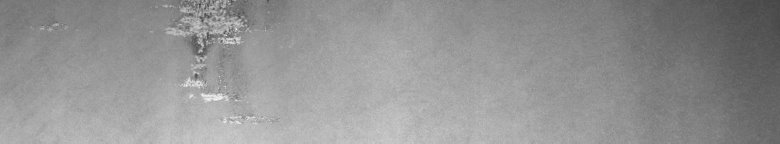hc: (162, 4, 264, 124)
